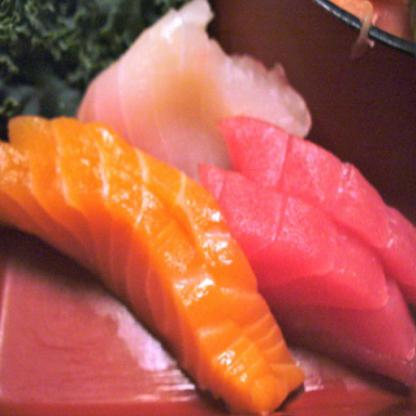salmon: (0, 111, 289, 415)
tuna: (206, 116, 416, 390)
